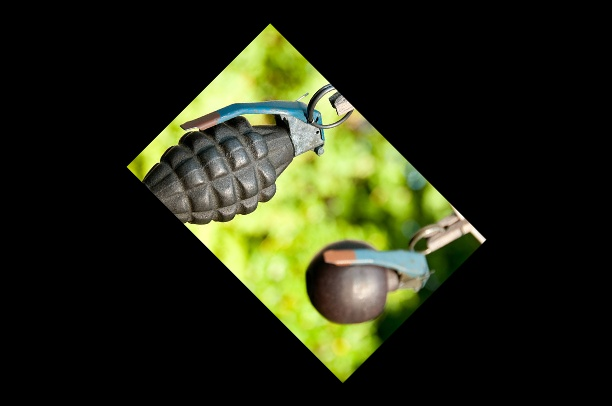e1: (138, 89, 342, 227), (303, 233, 437, 329)
